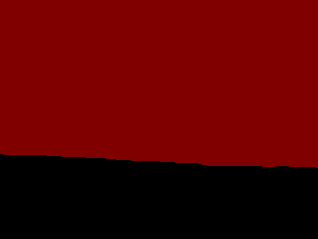Sky: (1, 1, 317, 167)
